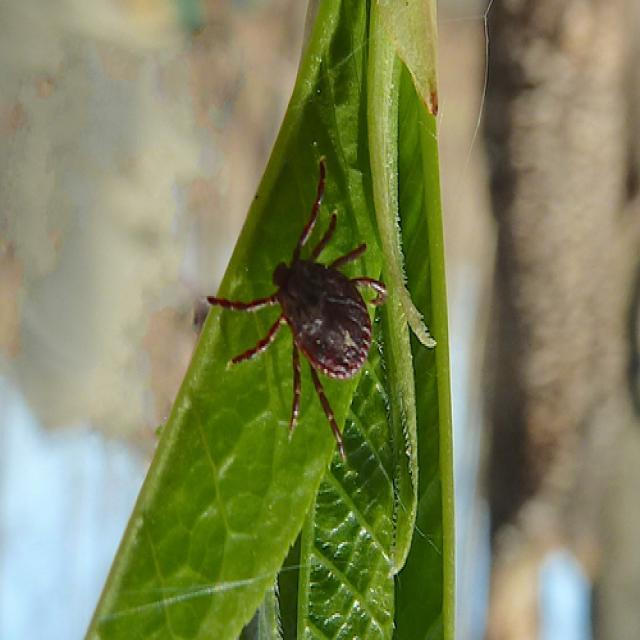Dermacentor Reticulatus-F: (207, 156, 389, 459)
